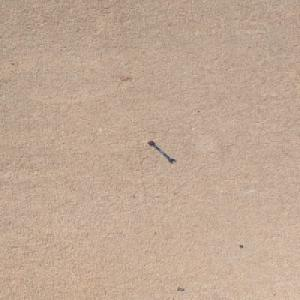Wrench: (146, 140, 176, 163)
